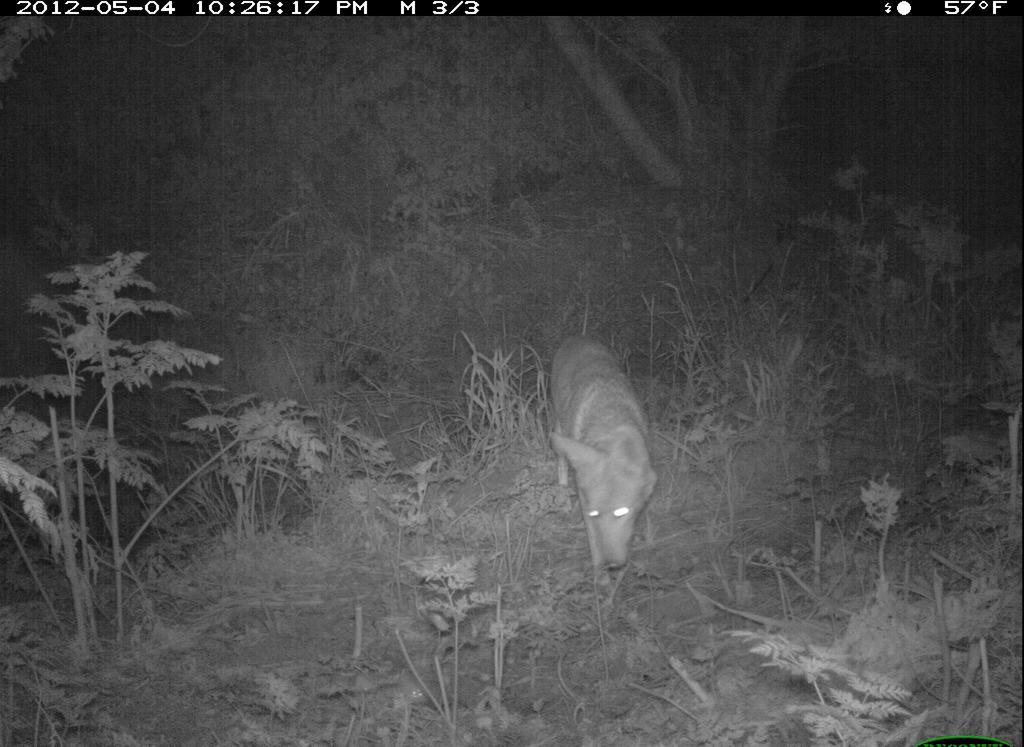coyote: (521, 317, 676, 589)
